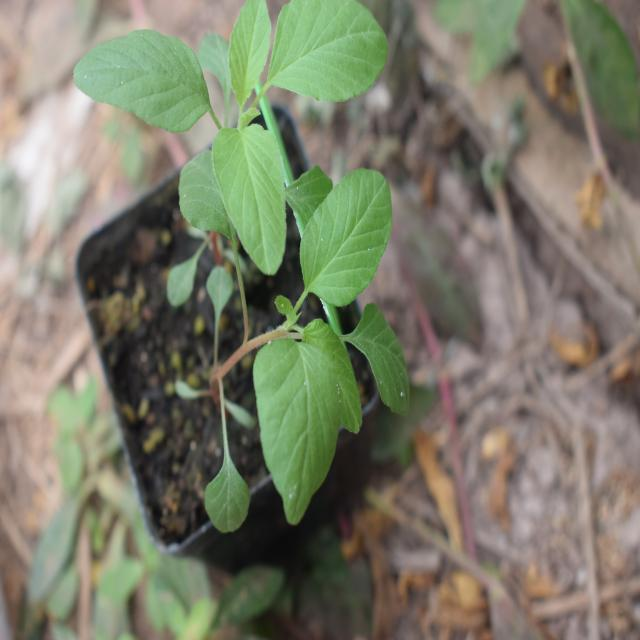pigweed: (207, 176, 447, 522), (68, 3, 384, 257)
